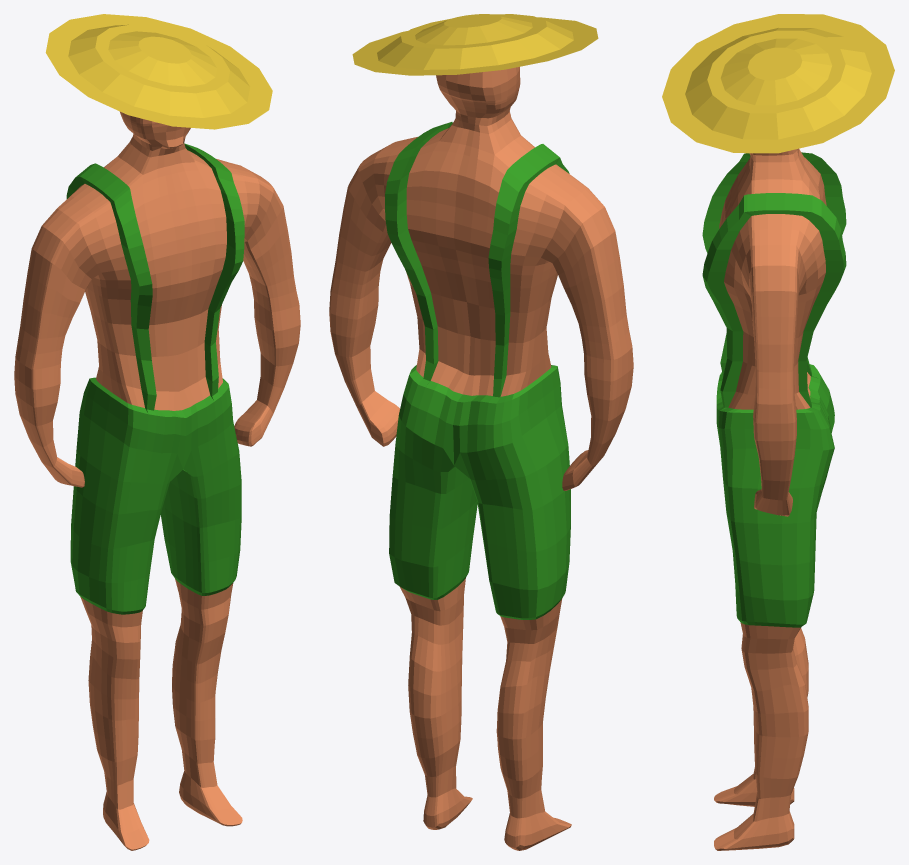
Rendered from paysan.fbx.
The picture shows the model from 3 angles, left to right: view 1: azimuth 30°, elevation 25°; view 2: azimuth 150°, elevation 25°; view 3: azimuth 270°, elevation 25°; orthographic projection. The views are drawn at different scales.
Visible parts, largest first — view 1: humain; view 2: humain; view 3: humain.
Boxes of the visible parts, bbox=[...] form: humain: bbox=[14, 14, 300, 850]; humain: bbox=[329, 14, 633, 850]; humain: bbox=[662, 14, 894, 850].
Bounding box in the file's own units: 1952 × 5322 × 1456.
